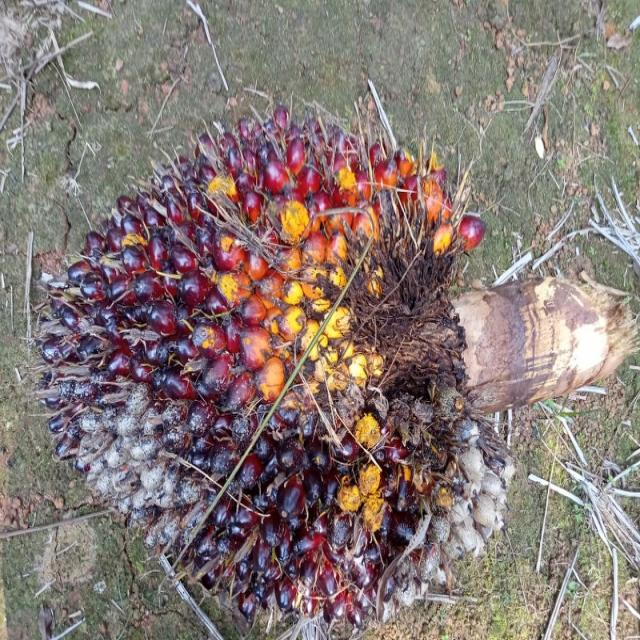fraksi 1: (19, 66, 511, 614)
